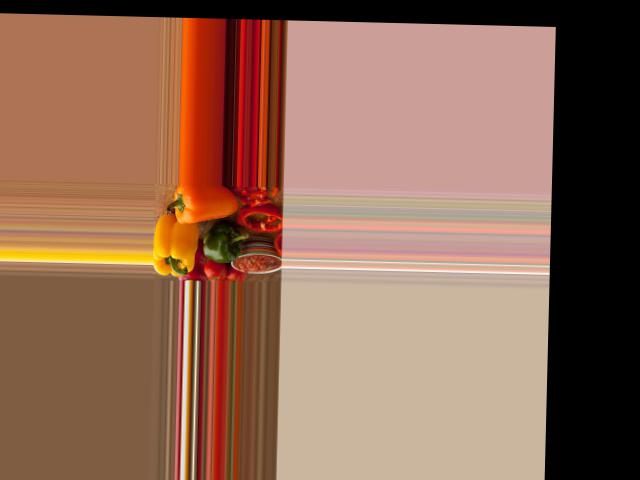bell_pepper: (153, 224, 200, 276)
